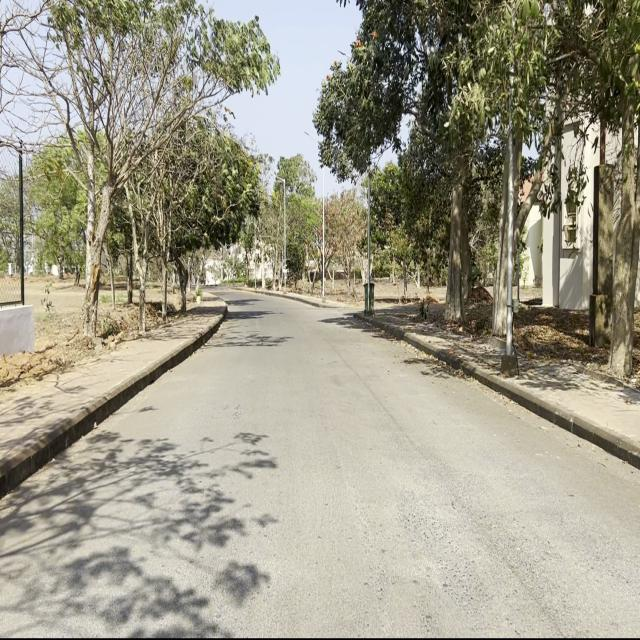Road: (1, 289, 636, 628)
